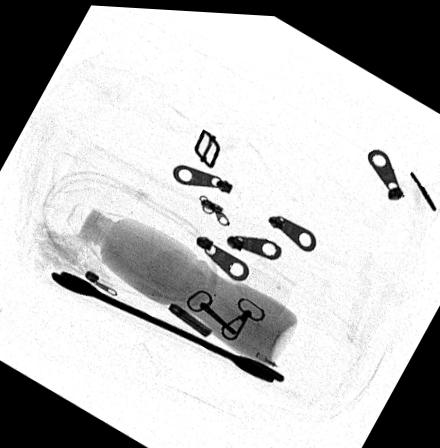Wrench: (51, 268, 289, 379)
